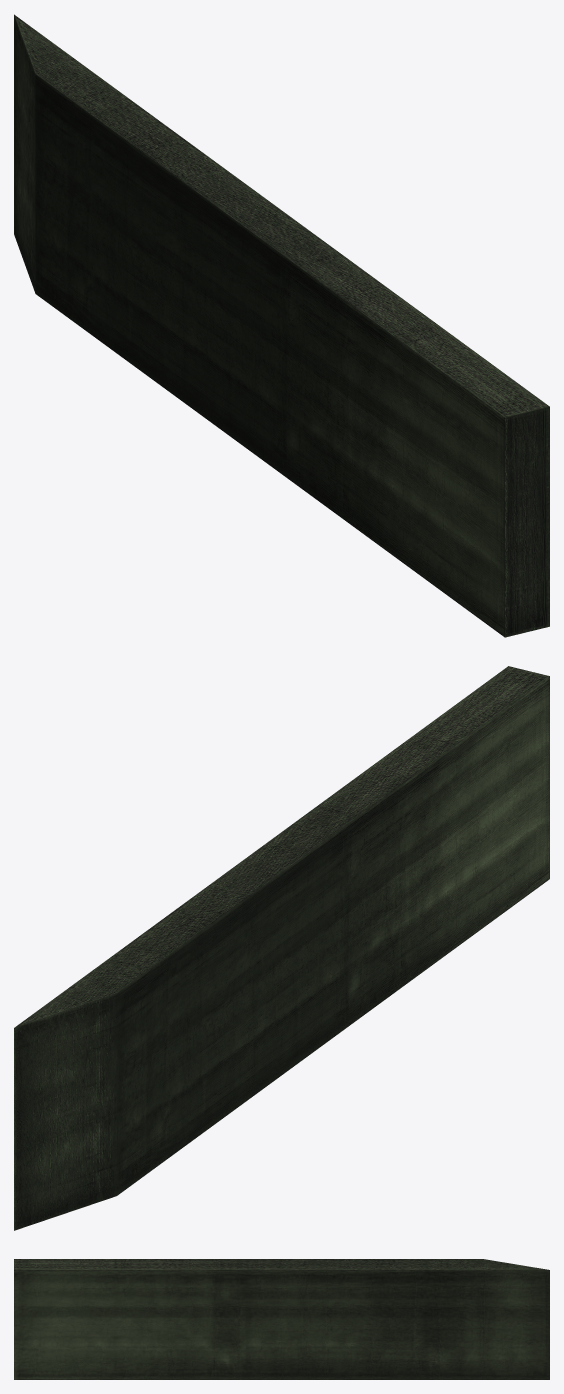
File: raque_side_lvl_1.glb
The picture shows the model from 3 angles, top to bottom: view 1: azimuth 30°, elevation 25°; view 2: azimuth 150°, elevation 25°; view 3: azimuth 270°, elevation 25°; orthographic projection. The views are drawn at different scales.
Visible parts, largest first — view 1: Mesh_0.003; view 2: Mesh_0.003; view 3: Mesh_0.003.
Part boxes in pixels (x1,y1,x2,y2): Mesh_0.003: (14,14,549,637); Mesh_0.003: (14,666,549,1230); Mesh_0.003: (14,1259,549,1379).
Size of the model in its own units: 0.00928 by 0.0433 by 0.1914.
1 material, 1 textured.
